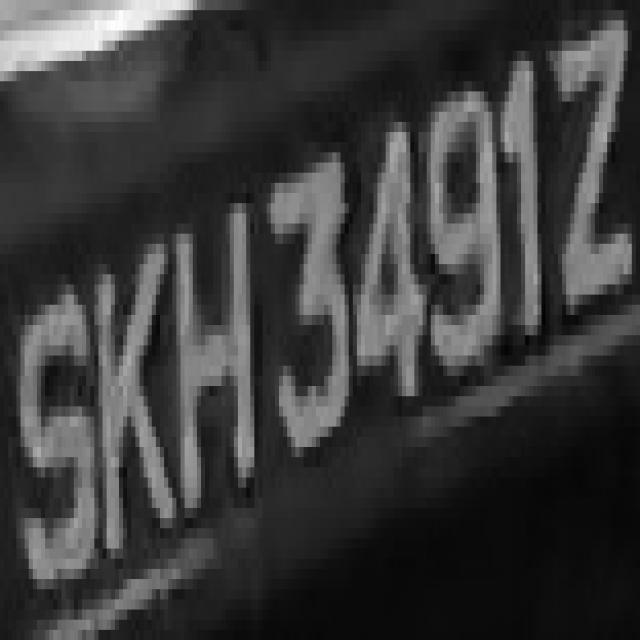1: (504, 41, 550, 386)
3: (262, 132, 357, 498)
4: (340, 81, 431, 427)
9: (410, 61, 501, 406)
H: (160, 162, 275, 498)
K: (82, 203, 176, 559)
S: (16, 254, 94, 599)
Z: (537, 10, 640, 335)
